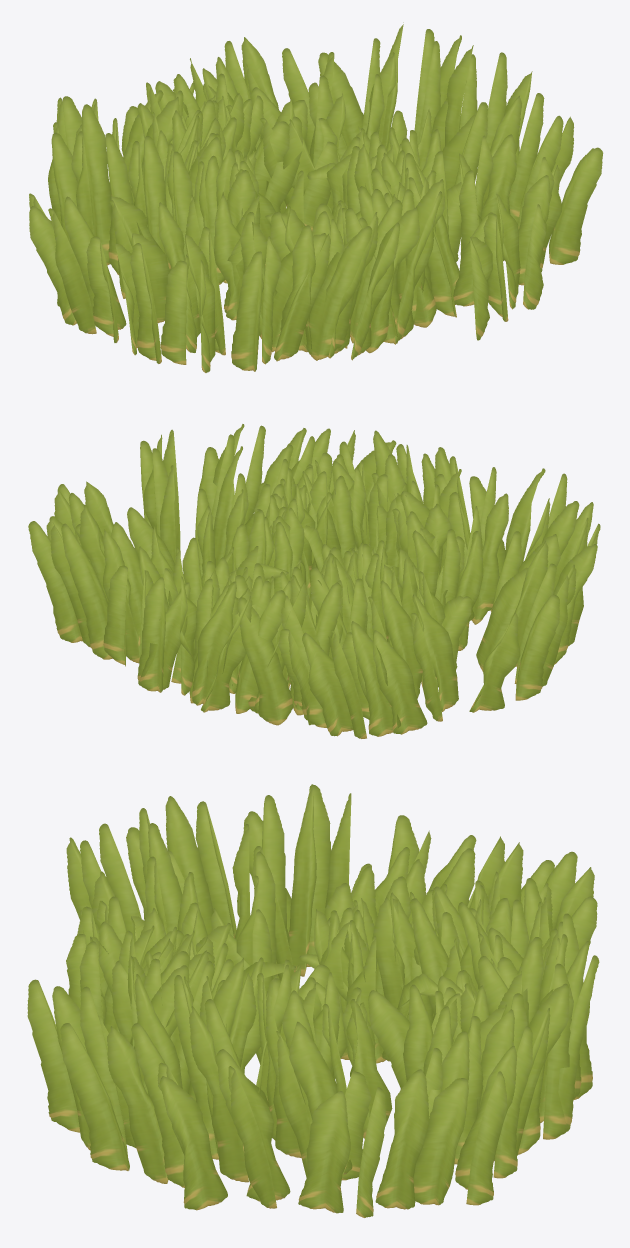
Rendered from seaweedCover.fbx.
The picture shows the model from 3 angles, top to bottom: view 1: azimuth 30°, elevation 25°; view 2: azimuth 150°, elevation 25°; view 3: azimuth 270°, elevation 25°; orthographic projection. The views are drawn at different scales.
Parts seen in each view (by area): view 1: stylizedtropical01_0; view 2: stylizedtropical01_0; view 3: stylizedtropical01_0.
Boxes of the visible parts, <box> form: stylizedtropical01_0: <box>29,22,603,372</box>; stylizedtropical01_0: <box>28,424,600,738</box>; stylizedtropical01_0: <box>27,784,599,1217</box>.
Size of the model in its own units: 302 by 88.85 by 246.
1 material, 1 textured.
